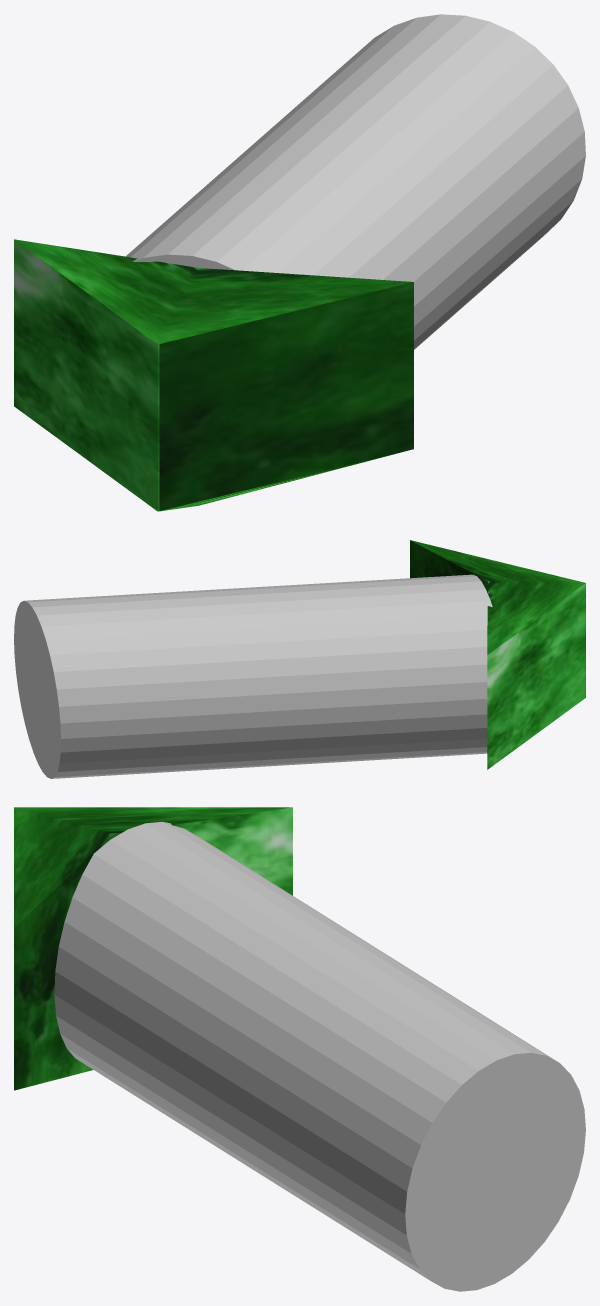
Rendered from lava arrow.fbx.
The picture shows the model from 3 angles, top to bottom: view 1: azimuth 30°, elevation 25°; view 2: azimuth 150°, elevation 25°; view 3: azimuth 270°, elevation 25°; orthographic projection. The views are drawn at different scales.
Parts seen in each view (by area): view 1: Cylinder.001, Cylinder; view 2: Cylinder, Cylinder.001; view 3: Cylinder, Cylinder.001.
Part boxes in pixels (x1,y1,x2,y2): Cylinder.001: (14, 239, 413, 511); Cylinder: (125, 14, 585, 511); Cylinder: (14, 574, 492, 778); Cylinder.001: (410, 540, 585, 769); Cylinder: (54, 821, 585, 1291); Cylinder.001: (14, 807, 292, 1090).
Size of the model in its own units: 554 by 210 by 449.
